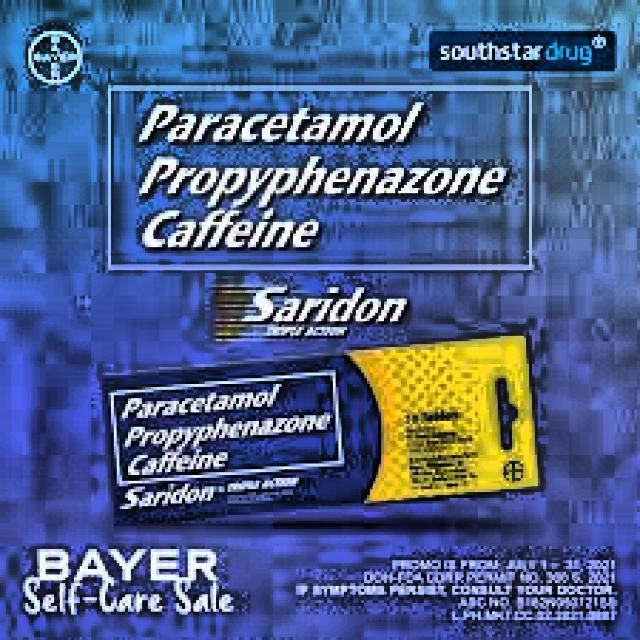Paracetamol: (140, 103, 516, 259), (100, 387, 370, 471)
